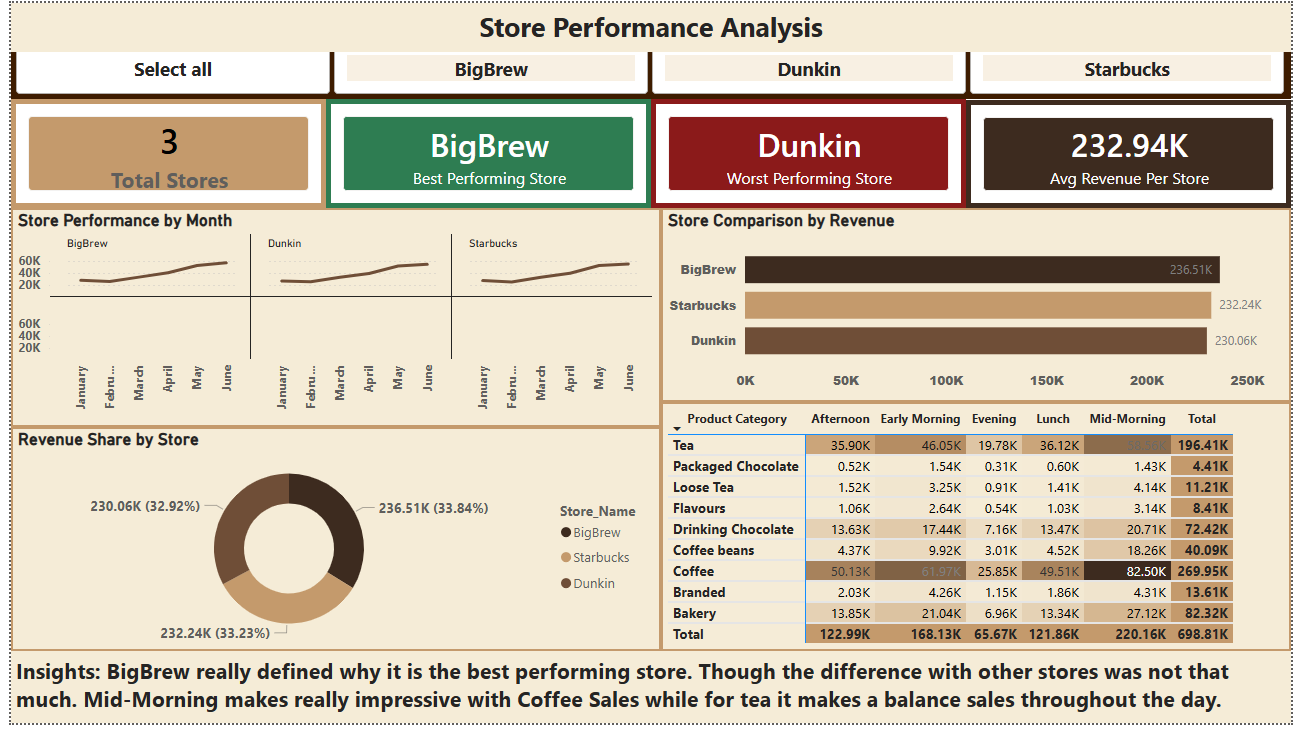

The dashboard page shown, as its layout file describes it:
{"tool":"powerbi","page":{"name":"Performance Analysis","canvas":[1280,720],"ordinal":2},"visuals":[{"type":"cardVisual","fields":{"Data":["Coffee1.Total Stores"]},"box":[0,95.9,315,109],"z":0},{"type":"cardVisual","fields":{"Data":["Coffee1.Best Performing Store"]},"box":[315,95.9,325,109],"z":1000},{"type":"cardVisual","fields":{"Data":["Coffee1.Worst Performing Store"]},"box":[640,95.9,315,109],"z":2000},{"type":"cardVisual","fields":{"Data":["Coffee1.Avg Revenue Per Store"]},"box":[955,96.9,325,108],"z":3000},{"type":"clusteredBarChart","title":"Store Comparison by Revenue","fields":{"Category":["Coffee1.Store_Name"],"Y":["Coffee1.Total Revenue"]},"box":[650,205,630,194],"z":4000},{"type":"lineChart","title":"Store Performance by Month","fields":{"Category":["Coffee1.Month"],"Y":["Coffee1.Total Revenue"],"Rows":["Coffee1.Store_Name"]},"box":[0,205,650,219],"z":5000},{"type":"donutChart","title":"Revenue Share by Store","fields":{"Category":["Coffee1.Store_Name"],"Y":["Coffee1.Total Revenue"]},"box":[0,424,650,224],"z":6000},{"type":"pivotTable","fields":{"Rows":["Coffee1.product_category"],"Columns":["Coffee1.Day_parts"],"Values":["Coffee1.Total Revenue"]},"box":[650,399,630,249],"z":7000},{"type":"advancedSlicerVisual","fields":{"Values":["Coffee1.Store_Name"]},"box":[0,34,1280,62],"z":8000},{"type":"textbox","box":[0,648,1280,72],"z":9000},{"type":"textbox","box":[0,0,1280,49],"z":10000}]}

Visuals, with their boxes in screenshot pixels (x1, y1, x2, y2), scaled from the page's 1280x720 canvas onto the 1300x731 screenshot:
cardVisual - Coffee1.Total Stores: bbox(0, 97, 320, 208)
cardVisual - Coffee1.Best Performing Store: bbox(320, 97, 650, 208)
cardVisual - Coffee1.Worst Performing Store: bbox(650, 97, 970, 208)
cardVisual - Coffee1.Avg Revenue Per Store: bbox(970, 98, 1299, 208)
"Store Comparison by Revenue" clusteredBarChart: bbox(660, 208, 1299, 405)
"Store Performance by Month" lineChart: bbox(0, 208, 660, 430)
"Revenue Share by Store" donutChart: bbox(0, 430, 660, 658)
pivotTable - Coffee1.product_category x Coffee1.Day_parts: bbox(660, 405, 1299, 658)
advancedSlicerVisual - Coffee1.Store_Name: bbox(0, 35, 1299, 97)
textbox: bbox(0, 658, 1299, 730)
textbox: bbox(0, 0, 1299, 50)
